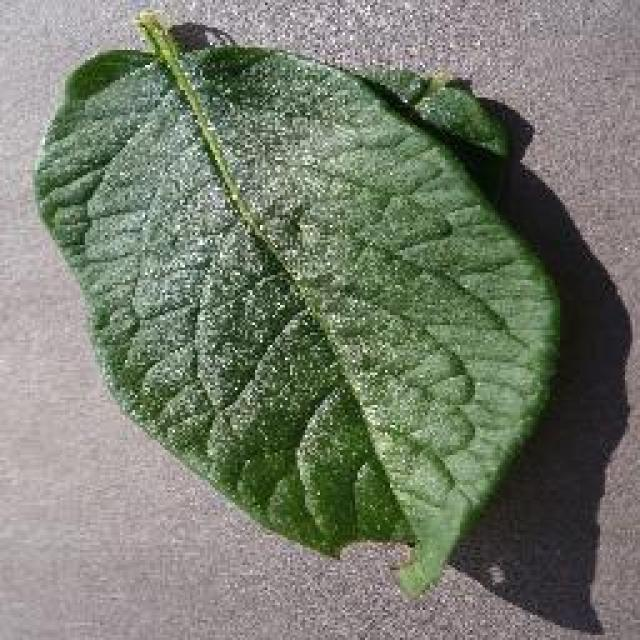Potato___healthy: (29, 12, 561, 604)
